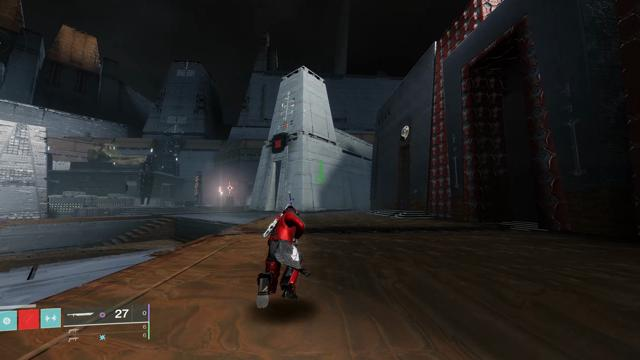brain: (400, 124, 410, 141)
stop: (272, 135, 285, 152)
